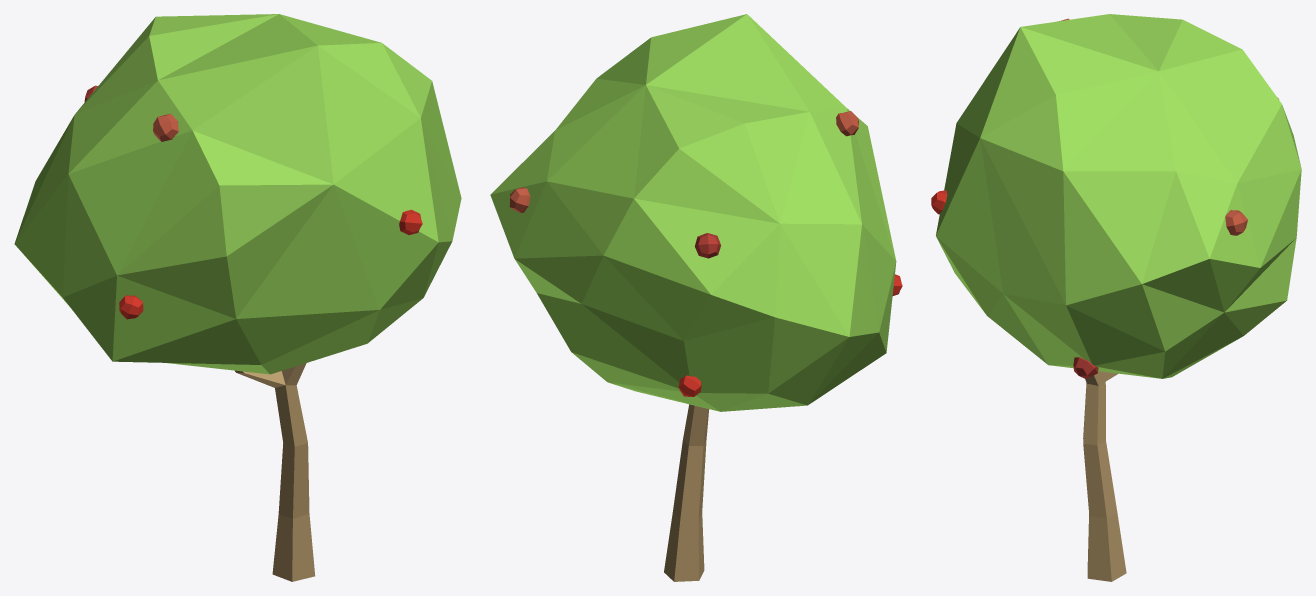
Rendered from Apple_Tree_Apples_m_03_LOD.fbx.
3 renders of one model, left to right at view 1: azimuth 30°, elevation 25°; view 2: azimuth 150°, elevation 25°; view 3: azimuth 270°, elevation 25°, orthographic. The views are drawn at different scales.
Parts seen in each view (by area): view 1: Apple_Tree_Apples_m_03_LOD0; view 2: Apple_Tree_Apples_m_03_LOD0; view 3: Apple_Tree_Apples_m_03_LOD0.
Boxes of the visible parts, x1=… form: Apple_Tree_Apples_m_03_LOD0: x1=14, y1=14, x2=461, y2=581; Apple_Tree_Apples_m_03_LOD0: x1=490, y1=14, x2=902, y2=581; Apple_Tree_Apples_m_03_LOD0: x1=931, y1=14, x2=1301, y2=581.
Size of what is drawn, in the model's own units: 510 by 711 by 445.
